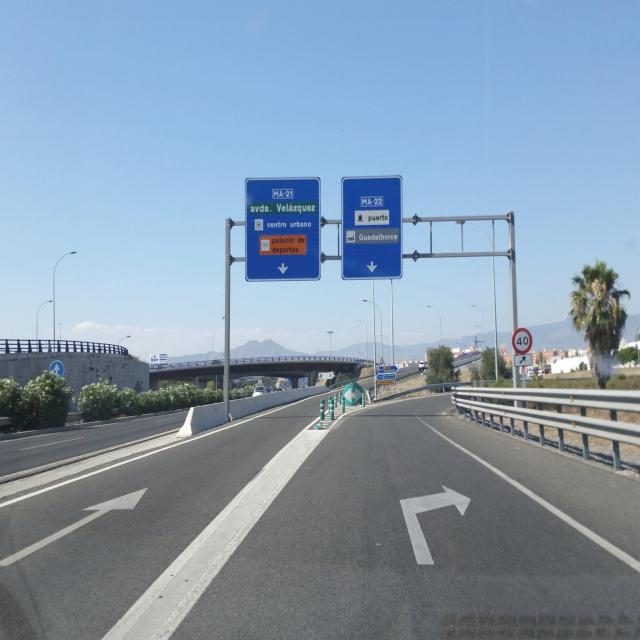car: (0, 416, 17, 436)
